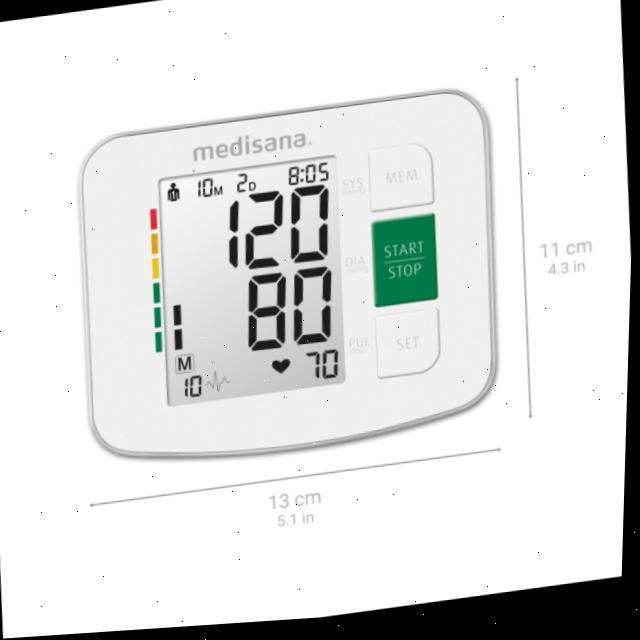dia: (234, 266, 348, 355)
pul: (300, 346, 346, 394)
ssd: (161, 160, 347, 409)
sys: (218, 184, 339, 274)
